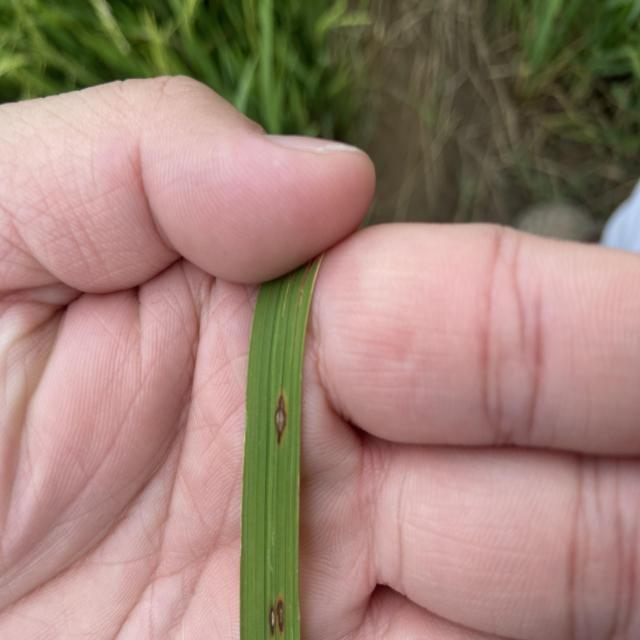Dao on: (274, 393, 287, 446), (276, 597, 285, 635), (268, 605, 276, 636)
